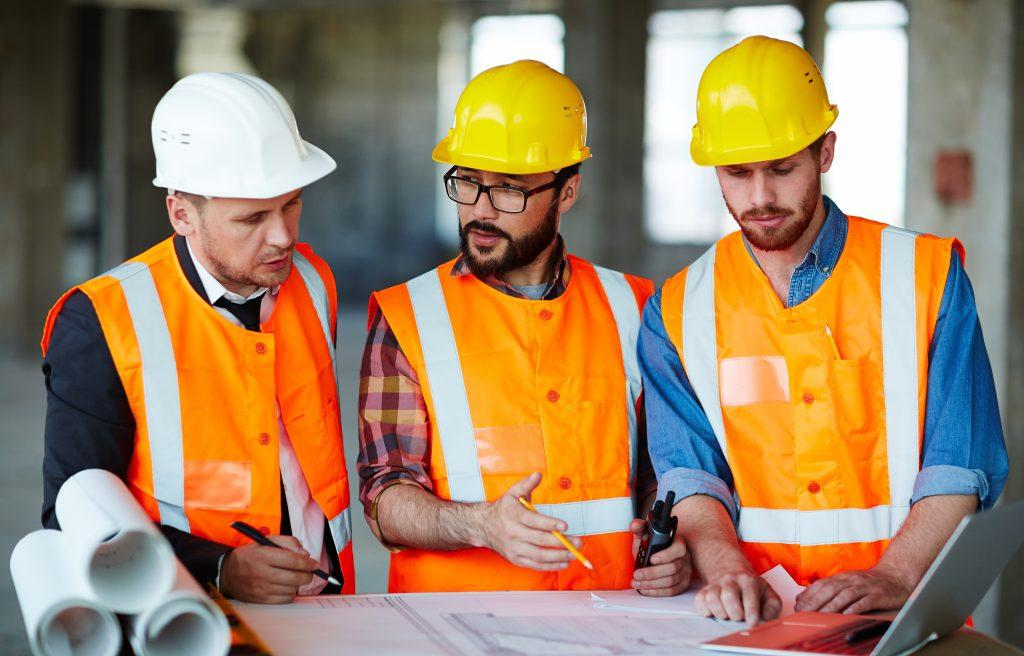hat: (124, 41, 373, 264), (666, 24, 868, 204), (424, 36, 641, 203)
vest: (44, 213, 353, 656), (374, 238, 659, 656)
